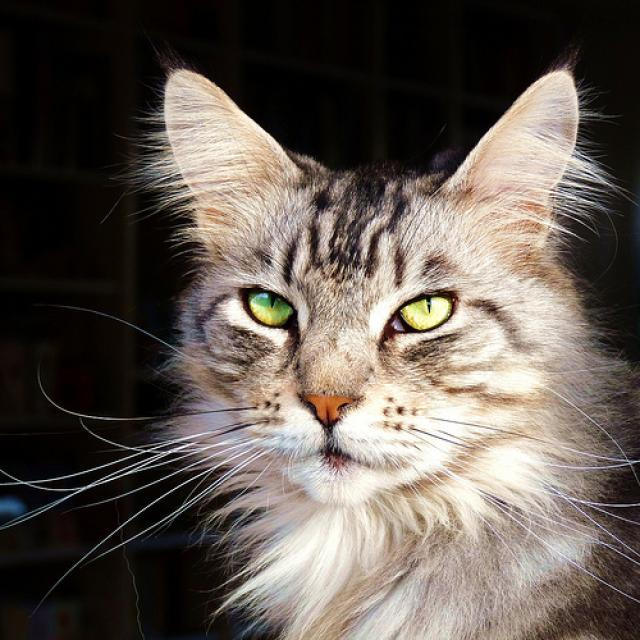Maine_Coon: (158, 61, 584, 507)
